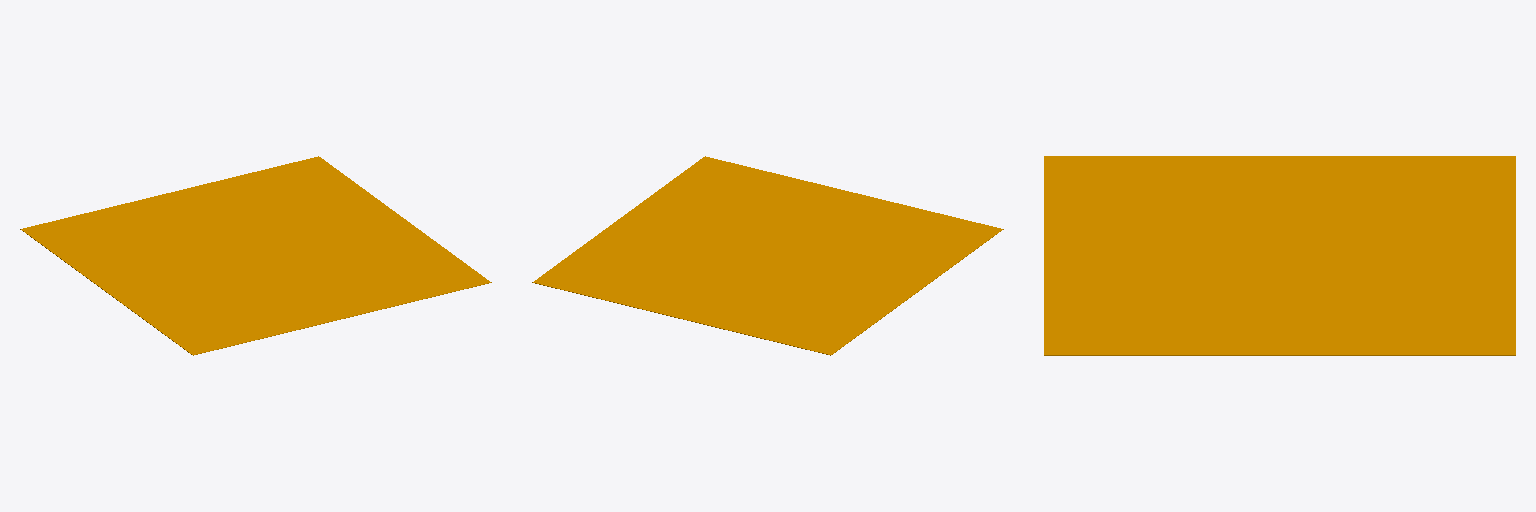
The robot description file, URDF, robot "ar_marker_model":
<?xml version="1.0" ?>
<!-- =================================================================================== -->
<!-- |    This document was autogenerated by xacro from ar_marker.urdf.xacro           | -->
<!-- |    EDITING THIS FILE BY HAND IS NOT RECOMMENDED                                 | -->
<!-- =================================================================================== -->
<robot name="ar_marker_model" xmlns:xacro="http://www.ros.org/wiki/xacro">
  <link name="ar_marker">
    <inertial>
      <mass value="1e-07"/>
      <origin rpy="0 0 0" xyz="0 0 0"/>
      <inertia ixx="4.08334166667e-09" ixy="0" ixz="0" iyy="4.08334166667e-09" iyz="0" izz="8.16666666667e-09"/>
    </inertial>
    <collision>
      <origin xyz="0 0 0"/>
      <geometry>
        <box size="0.7 0.7 0.001"/>
      </geometry>
    </collision>
    <visual>
      <origin xyz="0 0 0"/>
      <geometry>
        <box size="0.7 0.7 0.001"/>
      </geometry>
    </visual>
  </link>
  <gazebo reference="ar_marker">
    <material>ar_marker_0</material>
  </gazebo>
  <link name="world"/>
  <joint name="fix" type="fixed">
    <parent link="world"/>
    <child link="ar_marker"/>
    <origin rpy="0 0 0" xyz="0 0 0"/>
  </joint>
</robot>

--- Facts derived from the render (not from the file) ---
The picture shows the robot from 3 angles, left to right: view 1: azimuth 30°, elevation 25°; view 2: azimuth 150°, elevation 25°; view 3: azimuth 270°, elevation 25°; orthographic projection.
Robot: ar_marker_model — 2 links, 1 joints (1 fixed); root link world; default pose: every joint at zero.
Visible links, largest first — view 1: ar_marker; view 2: ar_marker; view 3: ar_marker.
Link boxes in pixels (x1=…): ar_marker: x1=20, y1=156, x2=491, y2=355; ar_marker: x1=532, y1=156, x2=1003, y2=355; ar_marker: x1=1044, y1=156, x2=1515, y2=355.
Bounding box of the posed robot: 0.7 × 0.7 × 0.001 m (x, y, z).
Geometry: primitives only (box / cylinder / sphere), no mesh files.
